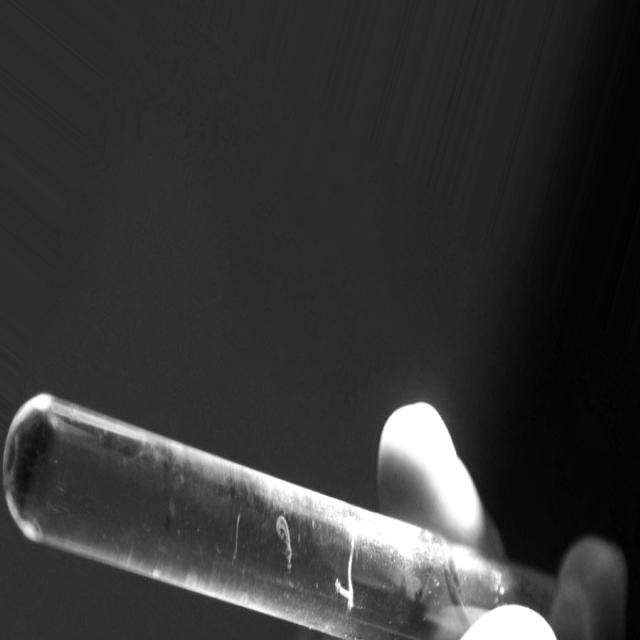larvas: (276, 518, 295, 570), (415, 567, 433, 601), (232, 512, 242, 561), (334, 581, 352, 608), (348, 539, 355, 602)
